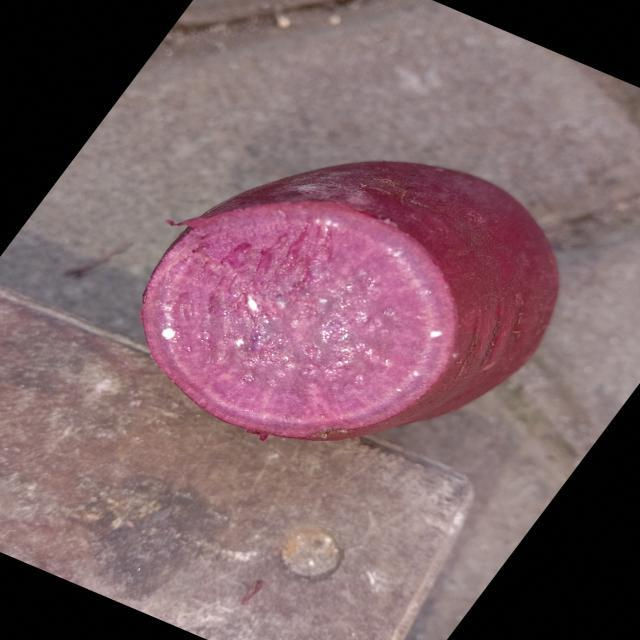Healthy Sweet Potato: (142, 202, 455, 438)
